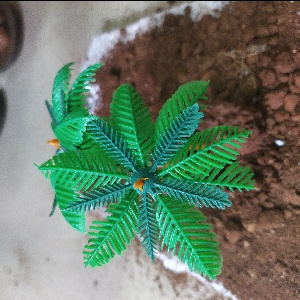plant: (38, 57, 265, 277)
